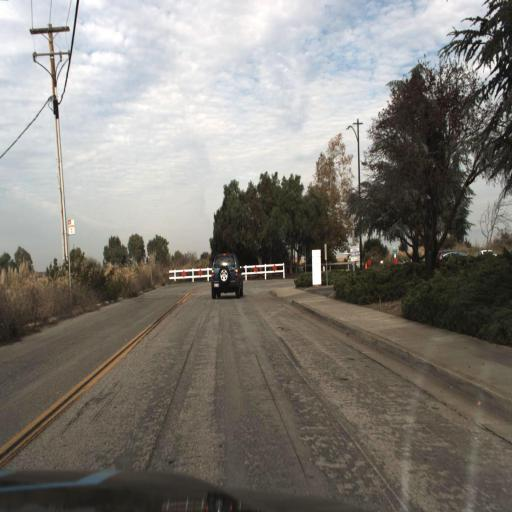car: (210, 254, 240, 296)
